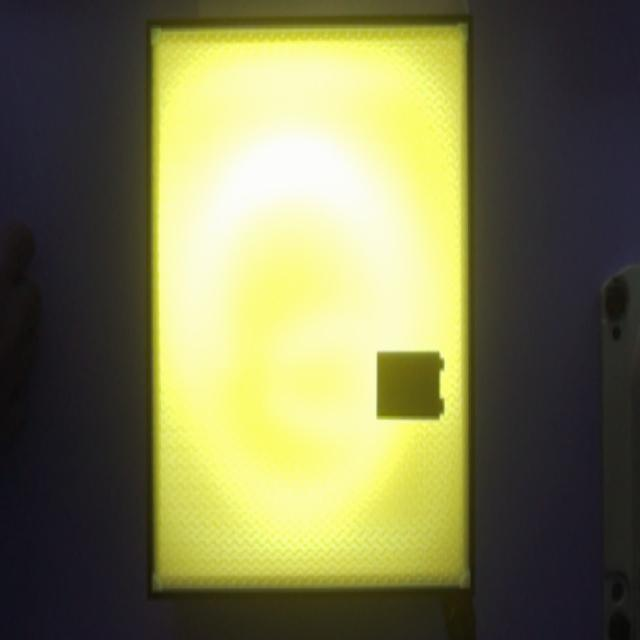bateria: (376, 351, 443, 418)
mesa: (147, 17, 474, 601)
